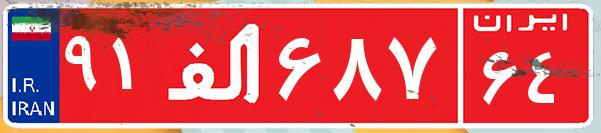1: (110, 28, 158, 105)
4: (525, 38, 570, 115)
6: (273, 28, 330, 110), (475, 38, 525, 113)
7: (385, 28, 445, 110)
8: (330, 28, 385, 110)
9: (57, 26, 110, 107)
الف: (158, 15, 273, 115)
